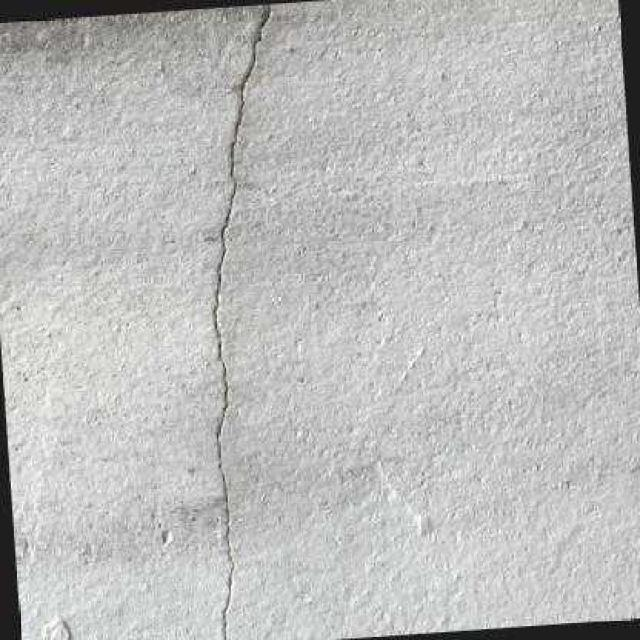D00: (213, 3, 271, 640)
